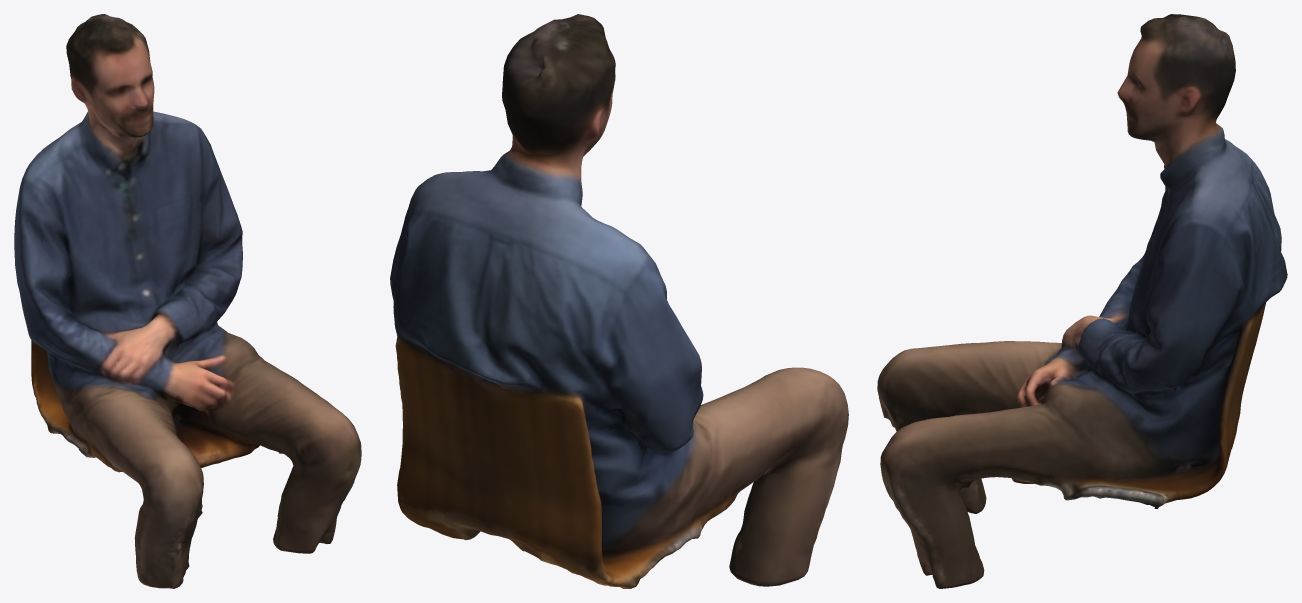
Rendered from person.obj.
3 renders of one model, left to right at view 1: azimuth 30°, elevation 25°; view 2: azimuth 150°, elevation 25°; view 3: azimuth 270°, elevation 25°, orthographic. The views are drawn at different scales.
Visible parts, largest first — view 1: mmGroup0; view 2: mmGroup0; view 3: mmGroup0.
Boxes of the visible parts, <box> form: mmGroup0: <box>14,14,361,588</box>; mmGroup0: <box>390,14,848,588</box>; mmGroup0: <box>877,14,1287,588</box>.
Size of the model in its own units: 0.4892 by 1.02 by 0.7347.
Materials: 1 (1 with a texture image).
